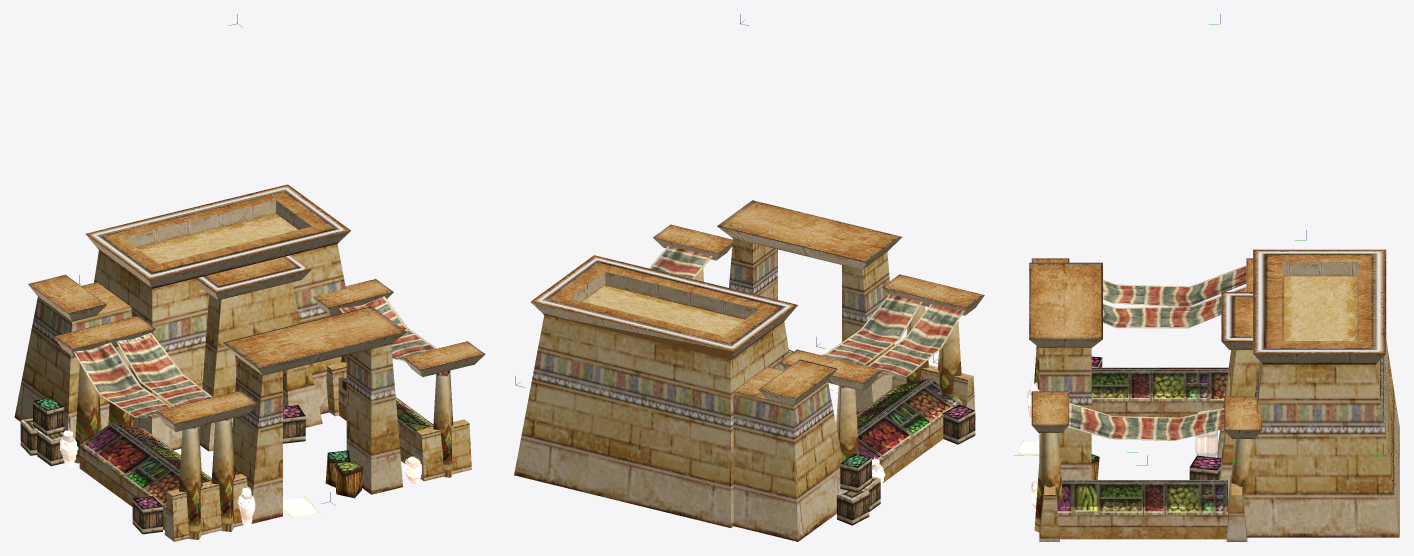
File: heroic.glb
The picture shows the model from 3 angles, left to right: view 1: azimuth 30°, elevation 25°; view 2: azimuth 150°, elevation 25°; view 3: azimuth 270°, elevation 25°; orthographic projection. The views are drawn at different scales.
Visible parts, largest first — view 1: building e market age3Model; view 2: building e market age3Model; view 3: building e market age3Model.
Boxes of the visible parts, x1,y1,x2,y2 form: building e market age3Model: (14, 184, 485, 541); building e market age3Model: (514, 200, 984, 541); building e market age3Model: (1016, 249, 1399, 541).
Bounding box in the file's own units: 8.75 × 11.02 × 8.53.
Materials: 7 (6 with a texture image).
